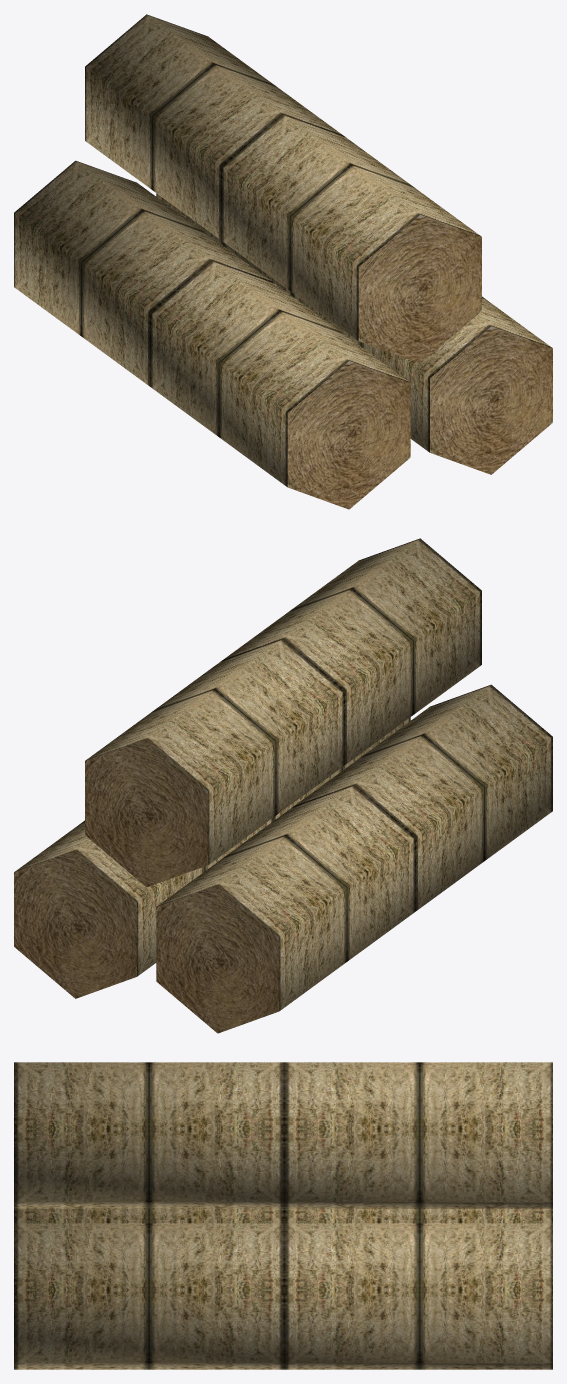
File: hay-bale-straw-3x4-cbj_LOD02.gltf
3 renders of one model, top to bottom at view 1: azimuth 30°, elevation 25°; view 2: azimuth 150°, elevation 25°; view 3: azimuth 270°, elevation 25°, orthographic.
Parts seen in each view (by area): view 1: Cube.003; view 2: Cube.003; view 3: Cube.003.
Boxes of the visible parts, x1,y1,x2,y2 form: Cube.003: (14,14,552,509); Cube.003: (14,538,552,1033); Cube.003: (14,1062,552,1369).
Size of what is drawn, in the model's own units: 3.36 by 3.36 by 6.
